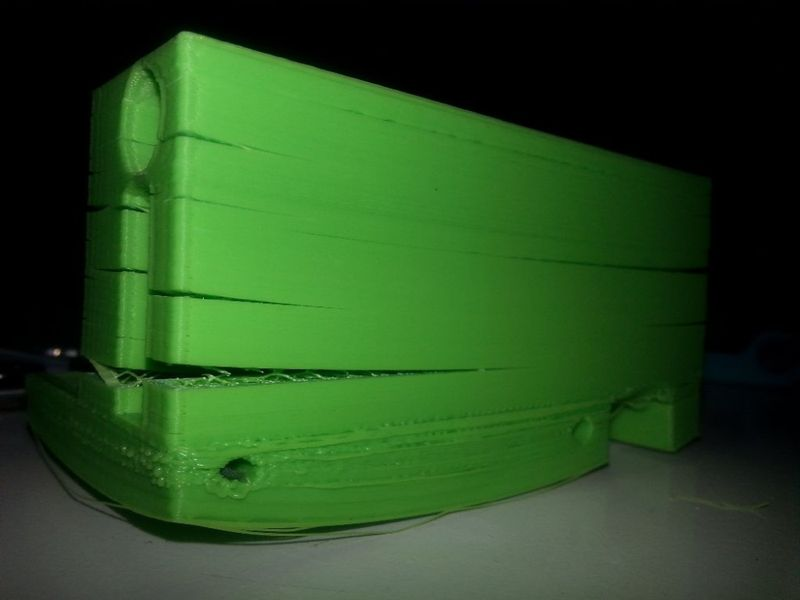crack: (473, 228, 718, 326), (134, 351, 494, 412), (125, 248, 338, 336), (80, 123, 333, 183), (71, 196, 173, 235)
